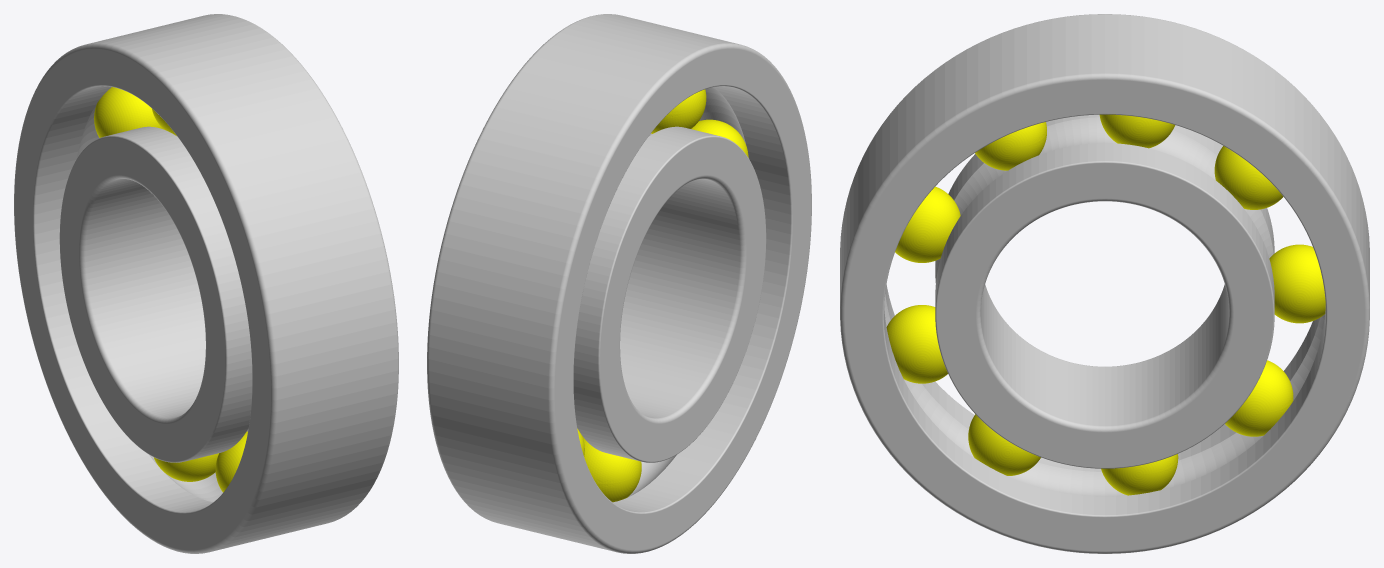
Rendered from model_web.glb.
3 renders of one model, left to right at view 1: azimuth 30°, elevation 25°; view 2: azimuth 150°, elevation 25°; view 3: azimuth 270°, elevation 25°, orthographic.
Visible parts, largest first — view 1: Node1, Node2; view 2: Node1, Node2; view 3: Node1, Node2.
Part boxes in pixels (bbox=[...]): Node1: bbox=[14, 14, 398, 553]; Node2: bbox=[94, 87, 247, 492]; Node1: bbox=[427, 14, 811, 553]; Node2: bbox=[577, 89, 748, 502]; Node1: bbox=[840, 14, 1369, 553]; Node2: bbox=[886, 114, 1325, 495].
Bounding box in the file's own units: 9 × 32 × 31.99.
